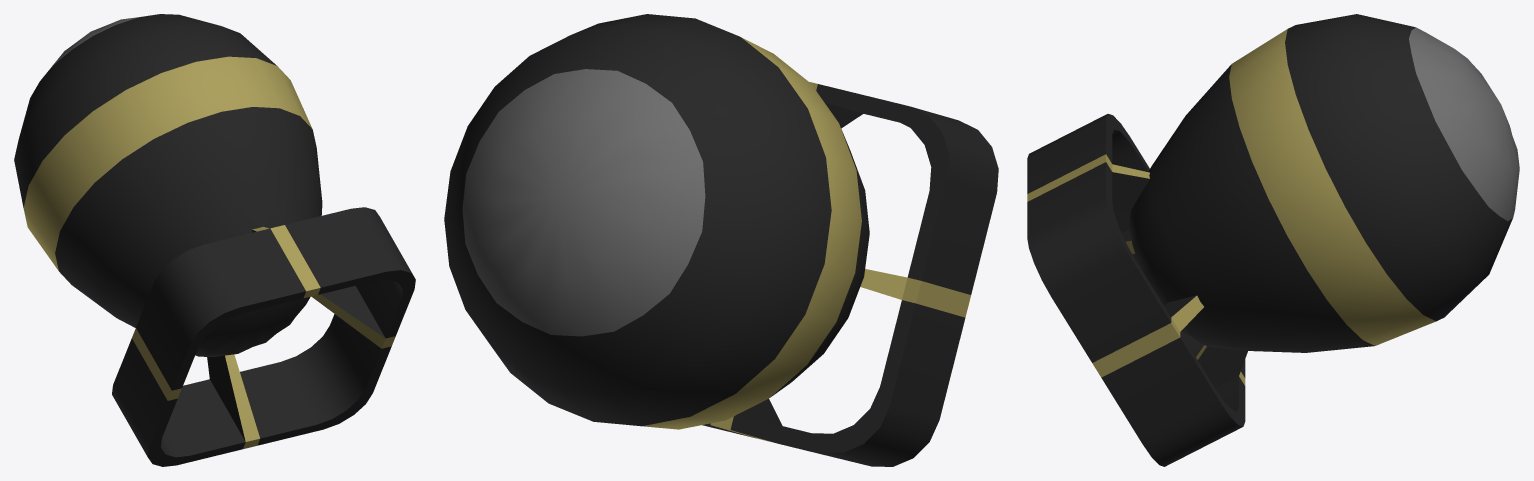
Rendered from nuke.glb.
3 renders of one model, left to right at view 1: azimuth 30°, elevation 25°; view 2: azimuth 150°, elevation 25°; view 3: azimuth 270°, elevation 25°, orthographic. The views are drawn at different scales.
Parts seen in each view (by area): view 1: Circle.001; view 2: Circle.001; view 3: Circle.001.
Part boxes in pixels (x1,y1,x2,y2): Circle.001: [14, 14, 415, 466]; Circle.001: [444, 14, 998, 466]; Circle.001: [1027, 14, 1519, 466].
Size of the model in its own units: 2.08 by 2.72 by 3.09.
